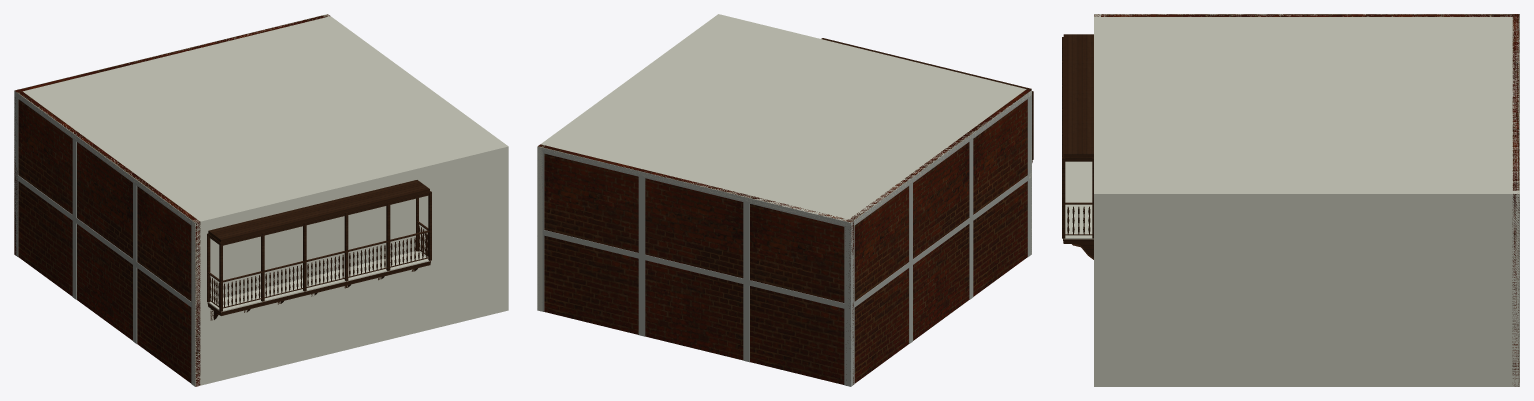
The model's file is building.glb.
3 renders of one model, left to right at view 1: azimuth 30°, elevation 25°; view 2: azimuth 150°, elevation 25°; view 3: azimuth 270°, elevation 25°, orthographic. The views are drawn at different scales.
Parts seen in each view (by area): view 1: roof/house:0/roof_slab#0001, house:0/edge0/z0/house:0/edge0/z0/wall_0_0, house:0/edge3/z0/house:0/edge3/z0/wall_0_0, balcony/sample/balcony_cover#0001, balcony/sample/balcony_platform#0001, house:0/edge2/z0/house:0/edge2/z0/wall_0_0, house:0/edge3/z0/house:0/edge3/z0/beam_0_0, house:0/edge3/z0/house:0/edge3/z0/beam_1_0, house:0/edge1/z0/house:0/edge1/z0/wall_0_0, balcony/sample/balcony_fascia#0001, balcony/sample/balcony_cover_cornice#0001, balcony/sample/balcony_handrail#0001; view 2: roof/house:0/roof_slab#0001, house:0/edge2/z0/house:0/edge2/z0/wall_0_0, house:0/edge3/z0/house:0/edge3/z0/wall_0_0, house:0/edge1/z0/house:0/edge1/z0/wall_0_0, house:0/edge2/z0/house:0/edge2/z0/beam_0_0, house:0/edge2/z0/house:0/edge2/z0/beam_1_0, house:0/edge3/z0/house:0/edge3/z0/beam_0_0, house:0/edge0/z0/house:0/edge0/z0/wall_0_0, house:0/edge3/z0/house:0/edge3/z0/beam_1_0, house:0/edge2/z0/house:0/edge2/z0/column_2_0, house:0/edge2/z0/house:0/edge2/z0/column_1_1, house:0/edge2/z0/house:0/edge2/z0/column_2_1 (+4 smaller); view 3: house:0/edge1/z0/house:0/edge1/z0/wall_0_0, roof/house:0/roof_slab#0001, balcony/sample/balcony_cover#0001, house:0/edge0/z0/house:0/edge0/z0/wall_0_0, balcony/sample/balcony_platform#0001, house:0/edge2/z0/house:0/edge2/z0/wall_0_0, house:0/edge3/z0/house:0/edge3/z0/wall_0_0.
Part boxes in pixels (<box>): roof/house:0/roof_slab#0001: <box>16,15,507,225</box>; house:0/edge0/z0/house:0/edge0/z0/wall_0_0: <box>192,144,508,386</box>; house:0/edge3/z0/house:0/edge3/z0/wall_0_0: <box>17,89,200,386</box>; balcony/sample/balcony_cover#0001: <box>208,180,429,242</box>; balcony/sample/balcony_platform#0001: <box>208,251,429,312</box>; house:0/edge2/z0/house:0/edge2/z0/wall_0_0: <box>14,14,329,255</box>; house:0/edge3/z0/house:0/edge3/z0/beam_0_0: <box>14,173,195,309</box>; house:0/edge3/z0/house:0/edge3/z0/beam_1_0: <box>14,91,195,228</box>; house:0/edge1/z0/house:0/edge1/z0/wall_0_0: <box>323,14,508,311</box>; balcony/sample/balcony_fascia#0001: <box>207,261,430,315</box>; balcony/sample/balcony_cover_cornice#0001: <box>208,192,429,245</box>; balcony/sample/balcony_handrail#0001: <box>208,221,429,282</box>; roof/house:0/roof_slab#0001: <box>540,14,1031,225</box>; house:0/edge2/z0/house:0/edge2/z0/wall_0_0: <box>538,144,853,384</box>; house:0/edge3/z0/house:0/edge3/z0/wall_0_0: <box>846,89,1030,383</box>; house:0/edge1/z0/house:0/edge1/z0/wall_0_0: <box>537,14,721,311</box>; house:0/edge2/z0/house:0/edge2/z0/beam_0_0: <box>542,230,851,310</box>; house:0/edge2/z0/house:0/edge2/z0/beam_1_0: <box>538,146,851,228</box>; house:0/edge3/z0/house:0/edge3/z0/beam_0_0: <box>850,172,1031,309</box>; house:0/edge0/z0/house:0/edge0/z0/wall_0_0: <box>716,14,1031,253</box>; house:0/edge3/z0/house:0/edge3/z0/beam_1_0: <box>850,90,1031,227</box>; house:0/edge2/z0/house:0/edge2/z0/column_2_0: <box>638,177,645,254</box>; house:0/edge2/z0/house:0/edge2/z0/column_1_1: <box>844,227,851,304</box>; house:0/edge2/z0/house:0/edge2/z0/column_2_1: <box>638,259,645,336</box>; house:0/edge1/z0/house:0/edge1/z0/wall_0_0: <box>1094,191,1519,386</box>; roof/house:0/roof_slab#0001: <box>1094,14,1519,198</box>; balcony/sample/balcony_cover#0001: <box>1063,34,1093,157</box>; house:0/edge0/z0/house:0/edge0/z0/wall_0_0: <box>1094,14,1100,386</box>; balcony/sample/balcony_platform#0001: <box>1064,161,1093,239</box>; house:0/edge2/z0/house:0/edge2/z0/wall_0_0: <box>1512,14,1519,386</box>; house:0/edge3/z0/house:0/edge3/z0/wall_0_0: <box>1094,14,1519,16</box>.
Bounding box in the file's own units: 12 × 6 × 12.89.
Materials: 4 (2 with a texture image).
